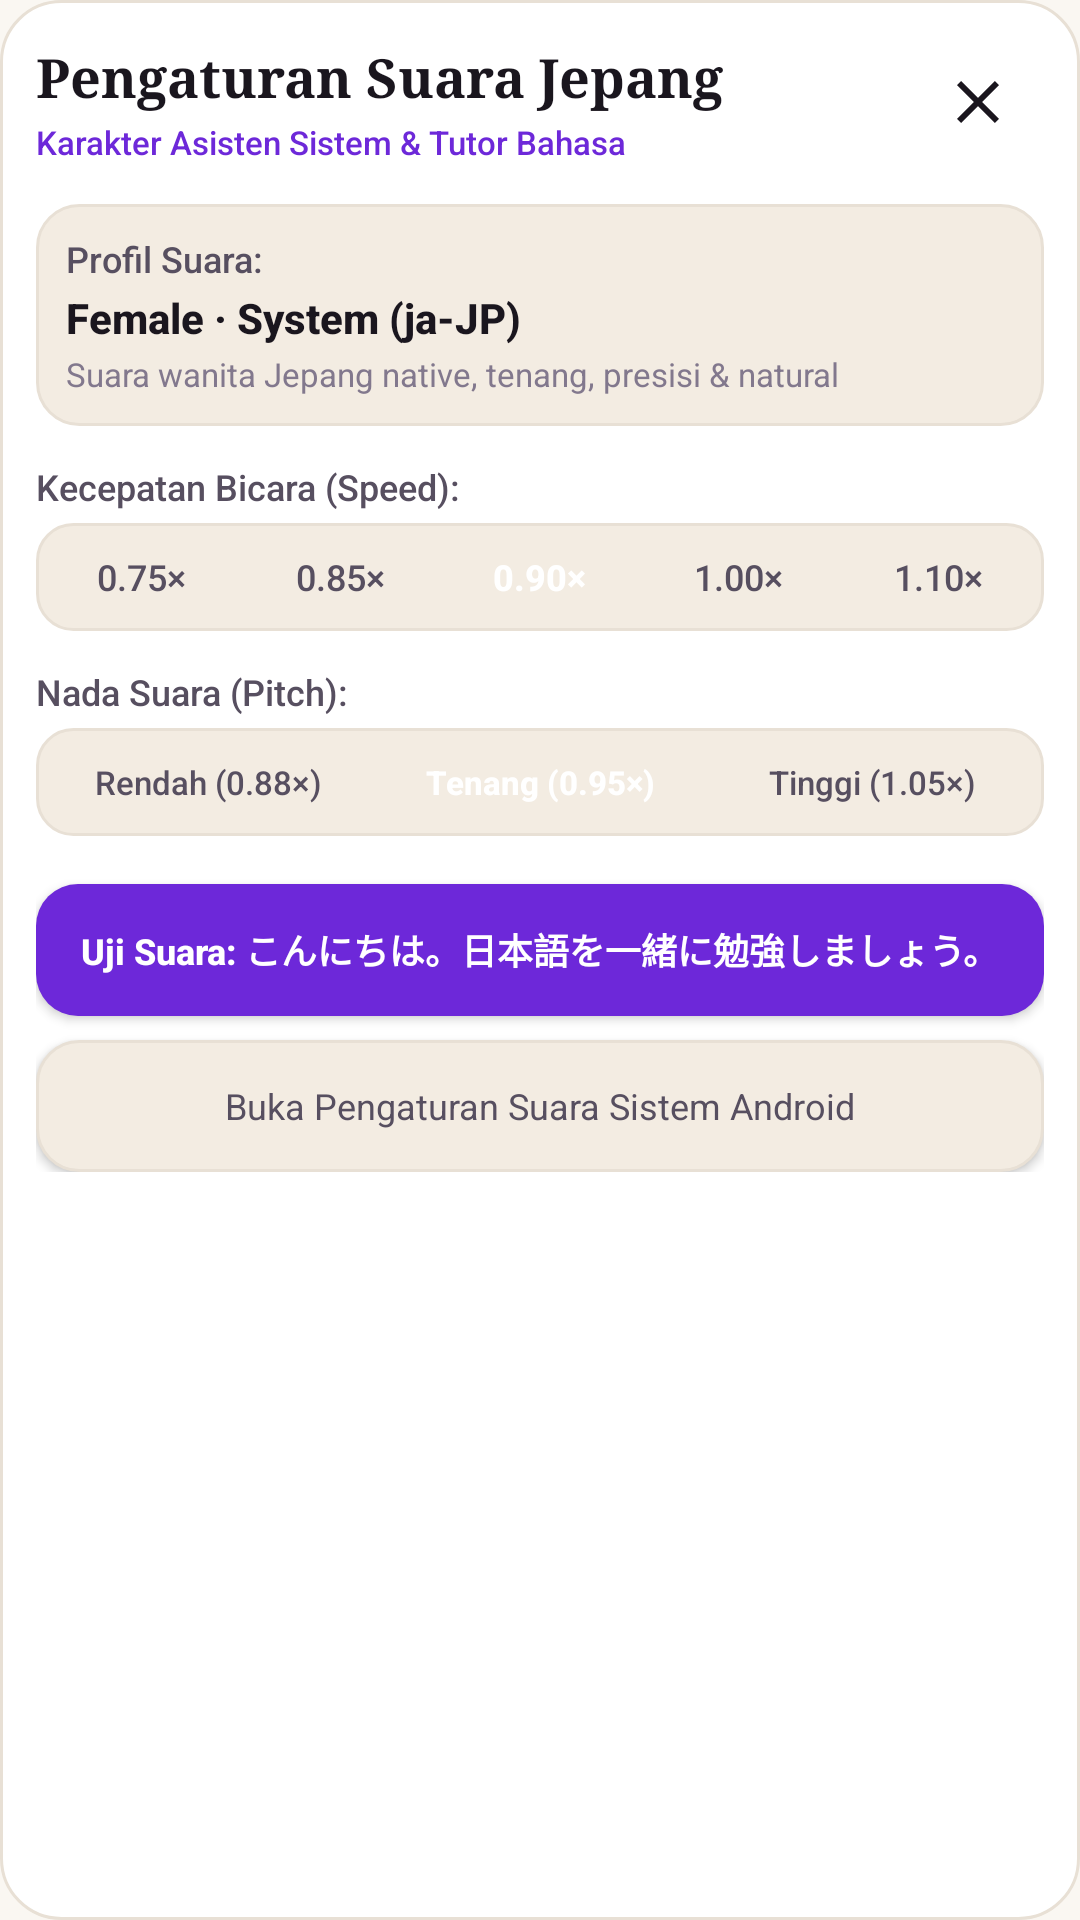

Where icons sit on this 1080px×1920px app screen, as bbox(x1, y1, x2, y2):
Tutup: bbox(957, 81, 999, 123)
